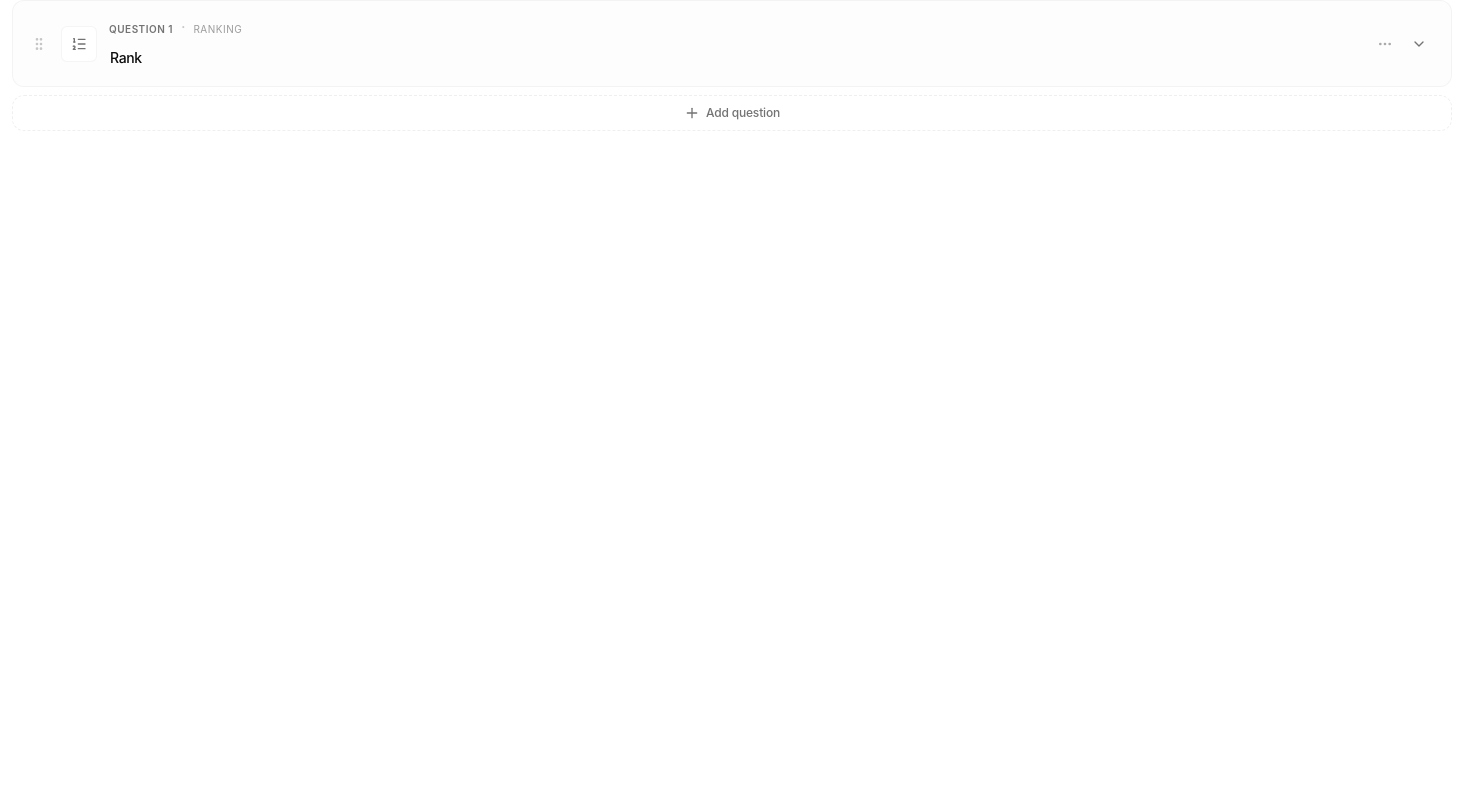
it: FormBlocksEditor choice editing › does not let a ranking question drop below two choices
This screenshot has width=1464, height=810.
Click the button named "Expand Rank".
click(1419, 44)  # box [1403,28,1435,60]
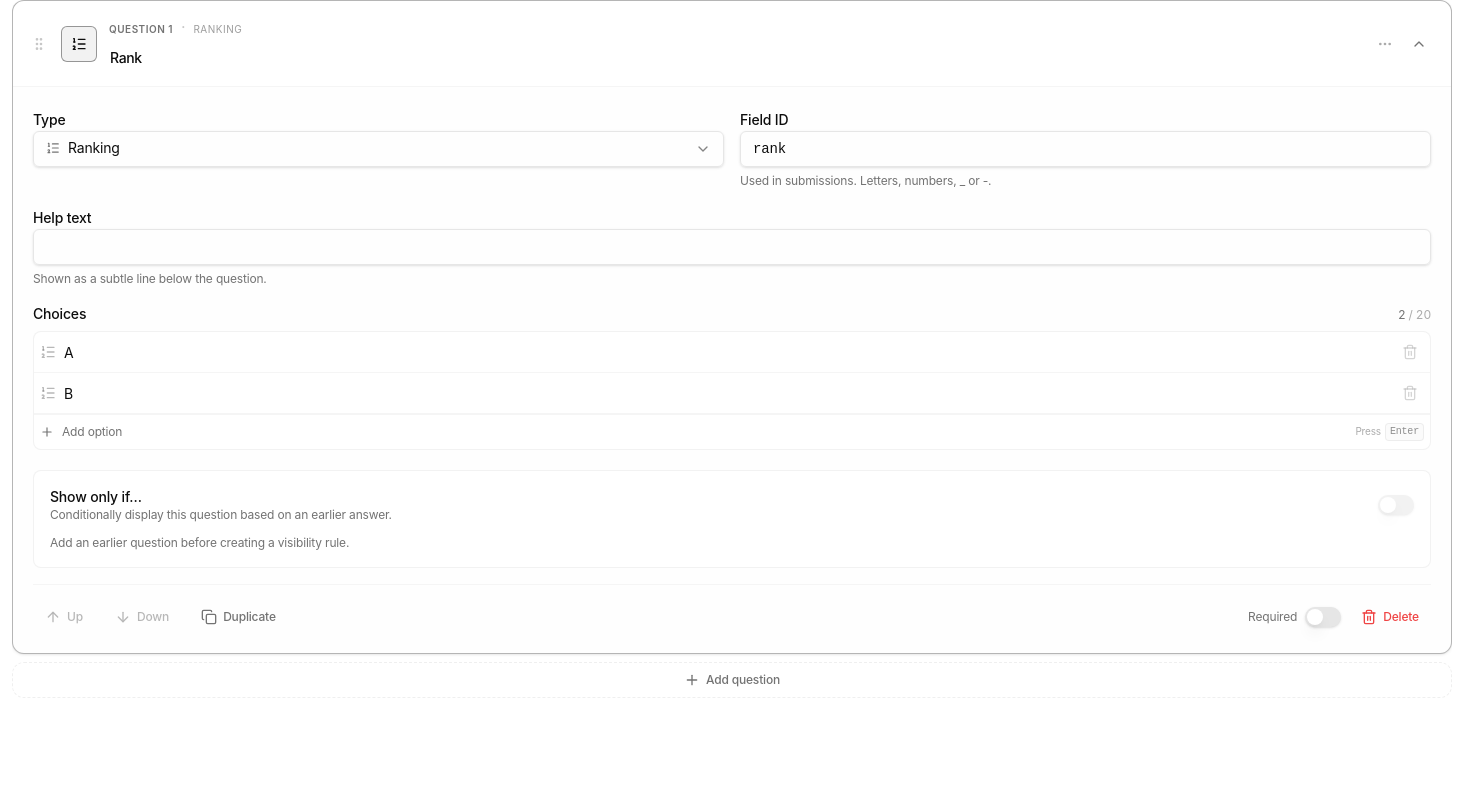
Result: the button named "Remove option 1" is disabled at [1396,338,1424,366]
Result: the button named "Remove option 2" is disabled at [1396,379,1424,407]
